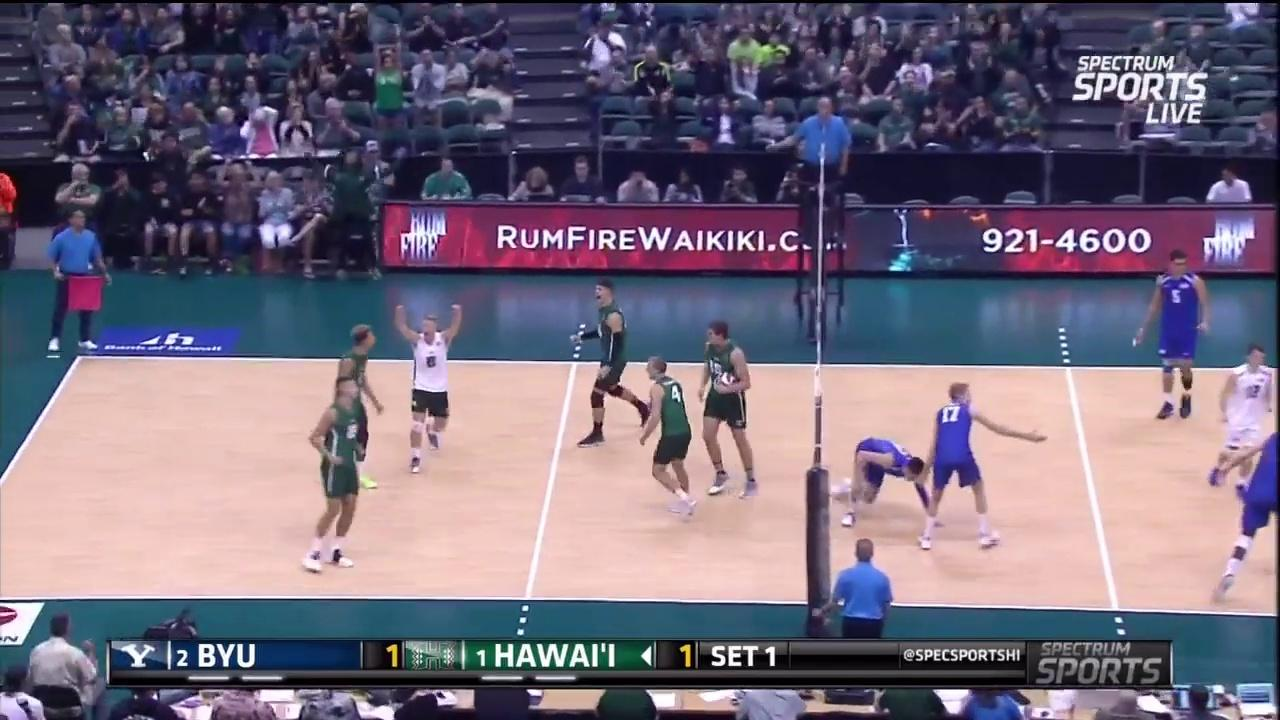player: (917, 383, 1043, 550), (1209, 414, 1280, 603), (1132, 251, 1210, 418), (308, 371, 366, 581), (329, 314, 393, 495), (698, 322, 761, 498), (569, 284, 637, 444), (831, 434, 937, 534), (400, 306, 460, 475), (635, 353, 695, 516), (1215, 338, 1272, 486)
refree: (793, 93, 857, 249), (48, 213, 112, 356), (829, 536, 889, 638)
